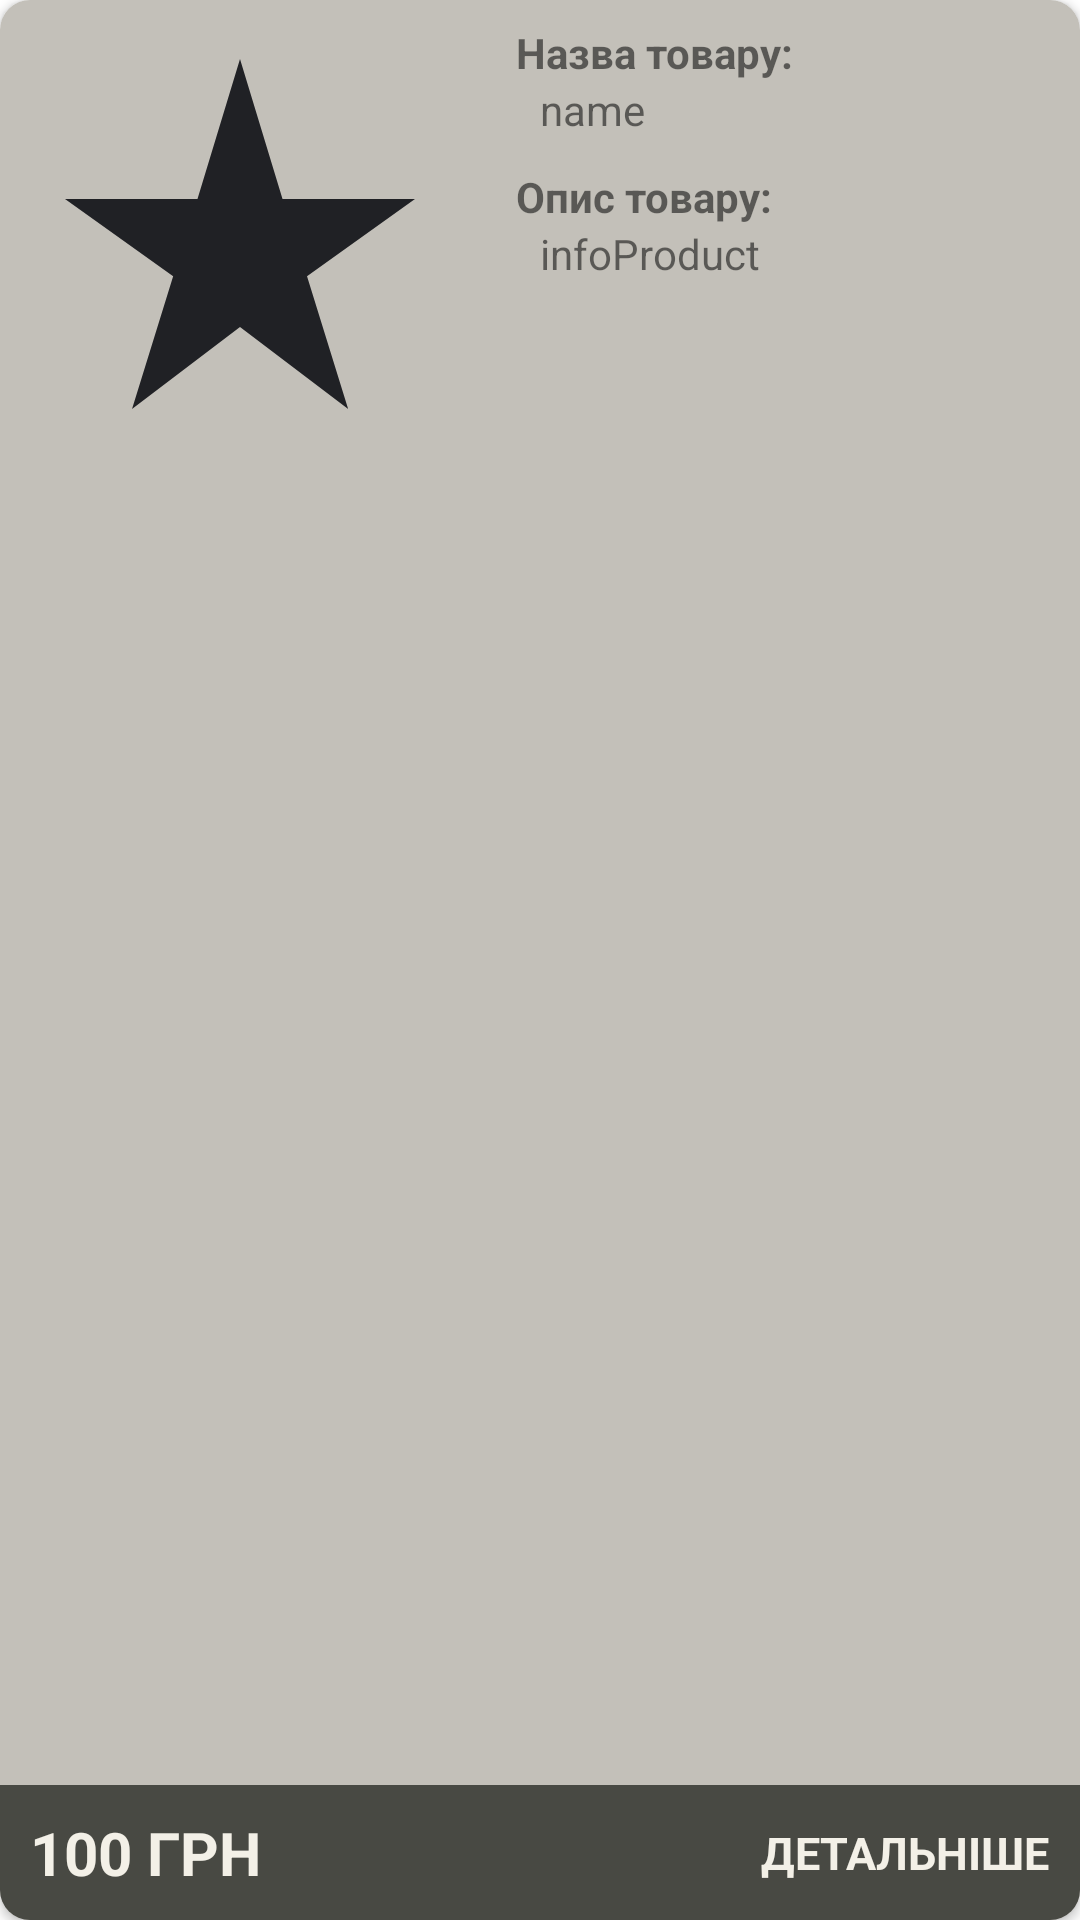

Named icons in this screenshot (1080*1920) and their bounding boxes, (x1, y1, x2, y2):
star mage: (65, 60, 415, 409)
